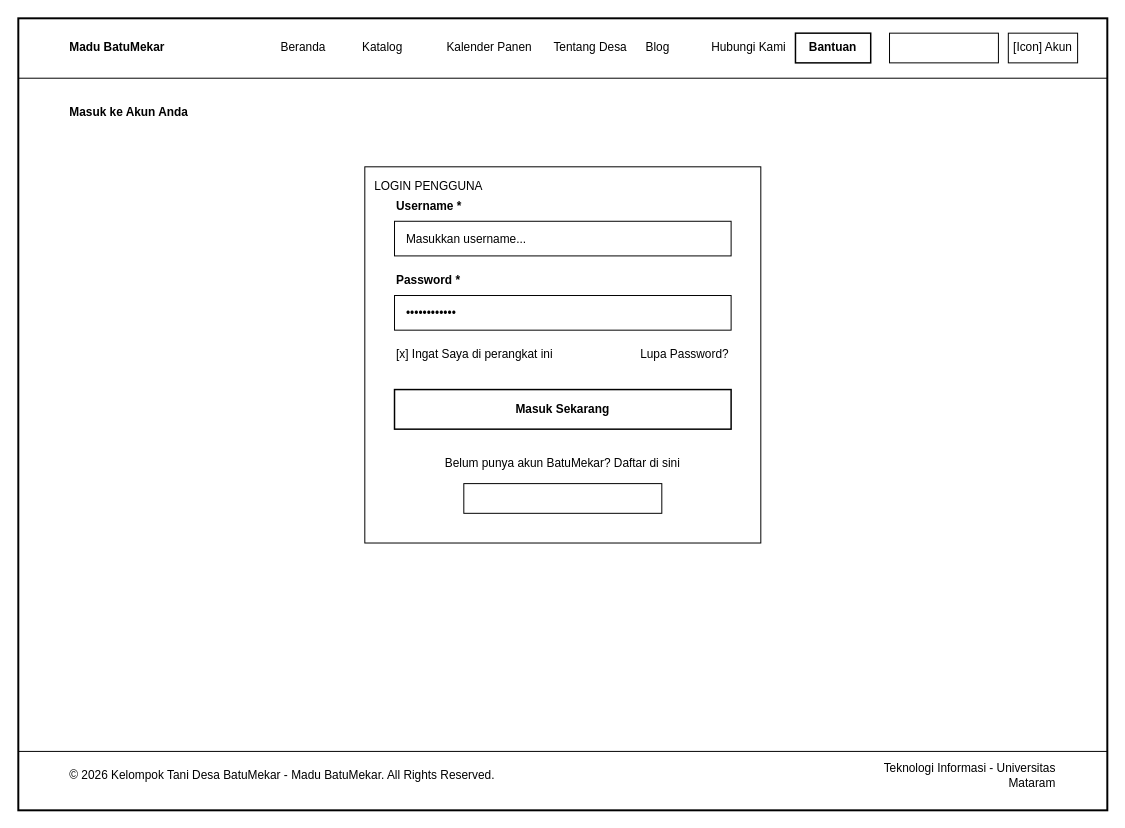
The diagram is 1125 pixels wide and 828 high, and some of its shapes have lost their labels. Each missing label, with the centre of its shape:
[Icon] Keranjang (2): the point at 943,47
Daftar Akun Baru: the point at 562,498
